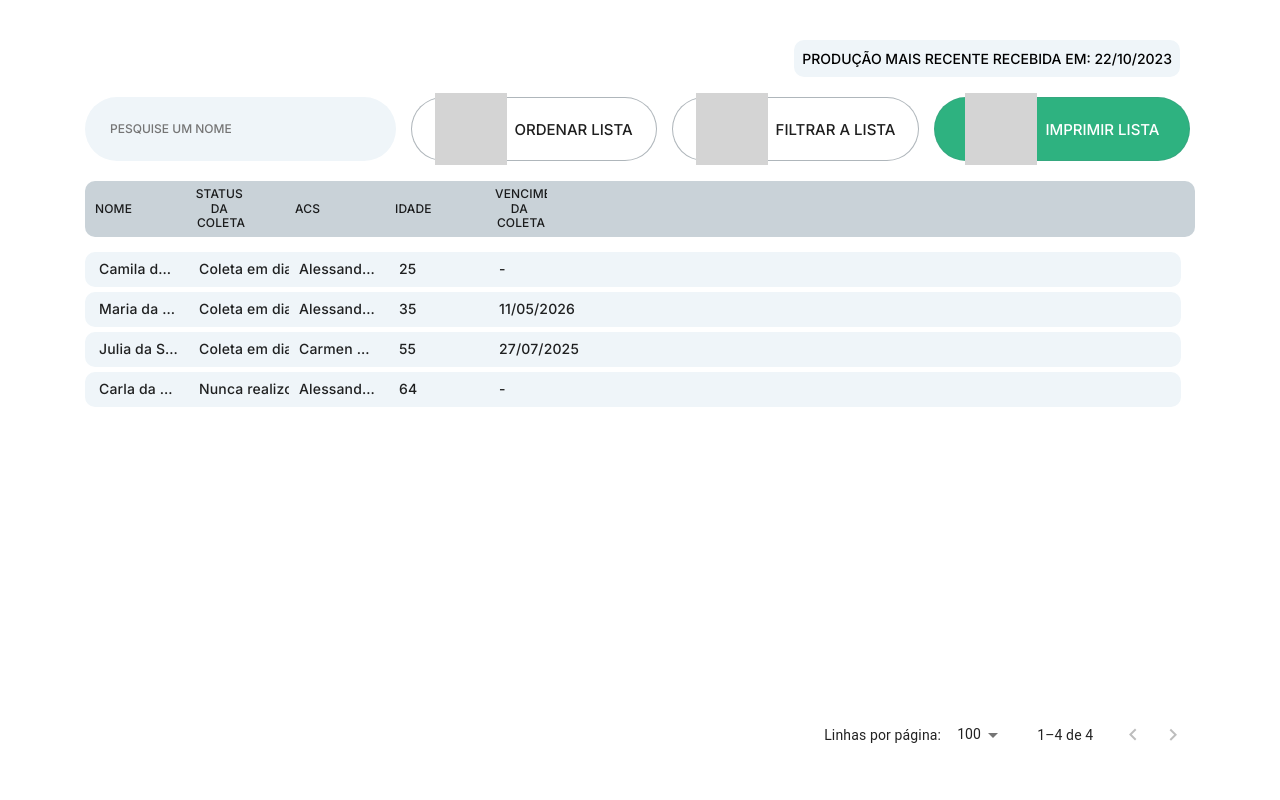
it: Ao clicar no botão Filtrar A Lista › deve exibir o modal de filtro
This screenshot has width=1280, height=800.
Click the button "FILTRAR A LISTA".
click(796, 129)  # box [672, 97, 919, 161]
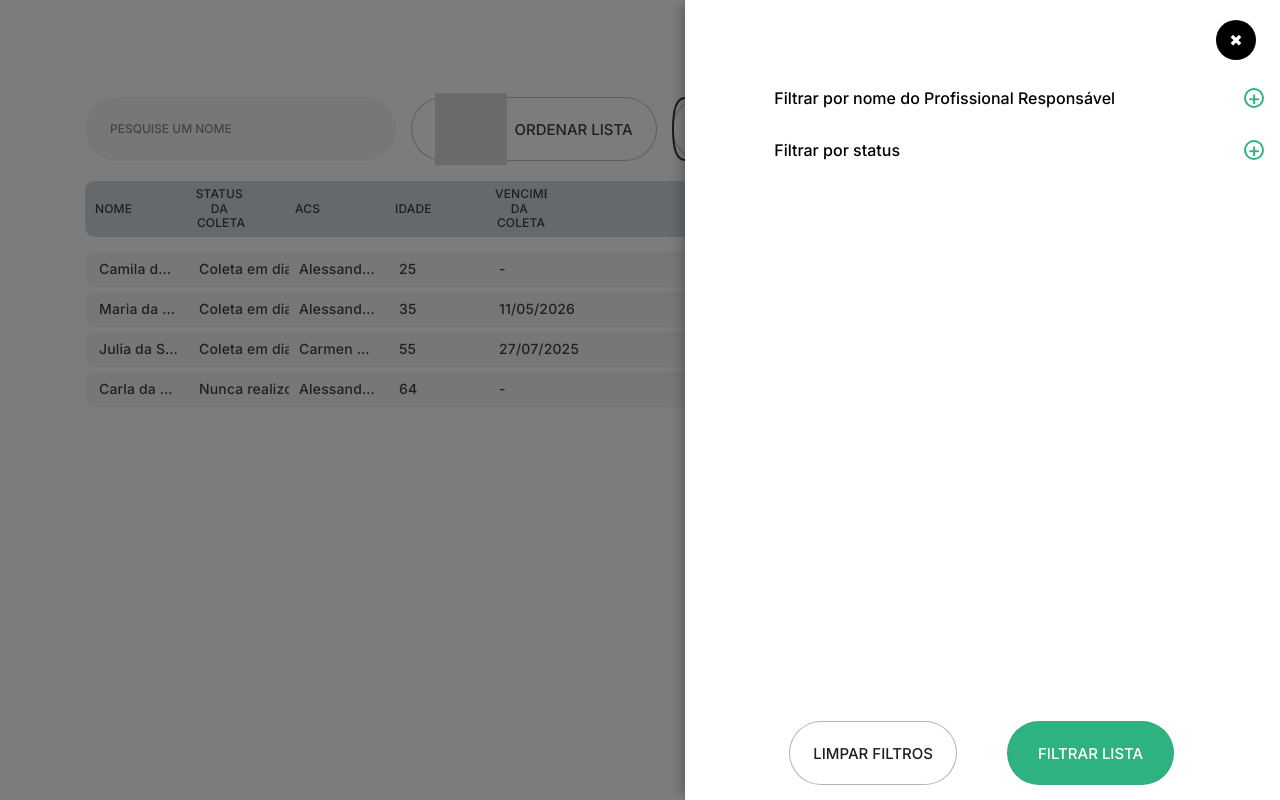
Check: the element with test id "Modal" is shown, box [685, 0, 1279, 799]
Check: the element with test id "Filtro" is shown, box [685, 60, 1279, 744]
